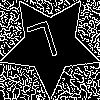L: (24, 20, 64, 72)
